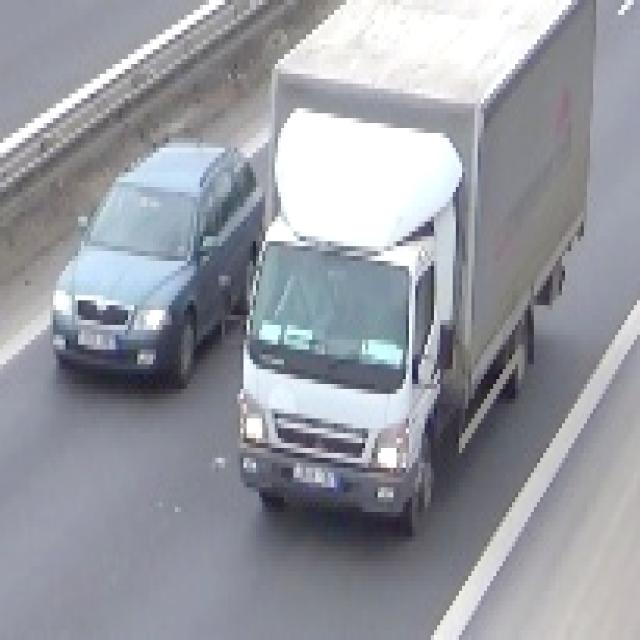truck: (232, 1, 594, 513)
